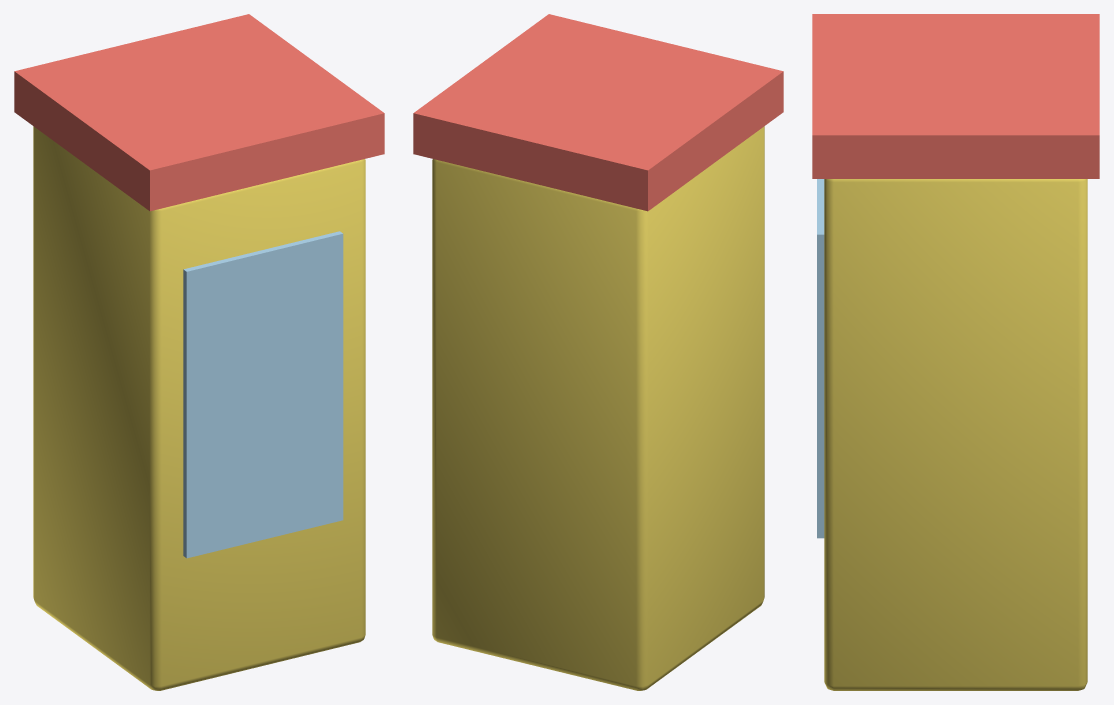
File: Prop_PhoneBooth.fbx
The picture shows the model from 3 angles, left to right: view 1: azimuth 30°, elevation 25°; view 2: azimuth 150°, elevation 25°; view 3: azimuth 270°, elevation 25°; orthographic projection. The views are drawn at different scales.
Visible parts, largest first — view 1: Prop_PhoneBooth; view 2: Prop_PhoneBooth; view 3: Prop_PhoneBooth.
Part boxes in pixels (<box>): Prop_PhoneBooth: <box>14,14,384,690</box>; Prop_PhoneBooth: <box>413,14,783,690</box>; Prop_PhoneBooth: <box>812,14,1099,690</box>.
Size of the model in its own units: 1.2 by 2.6 by 1.2.
